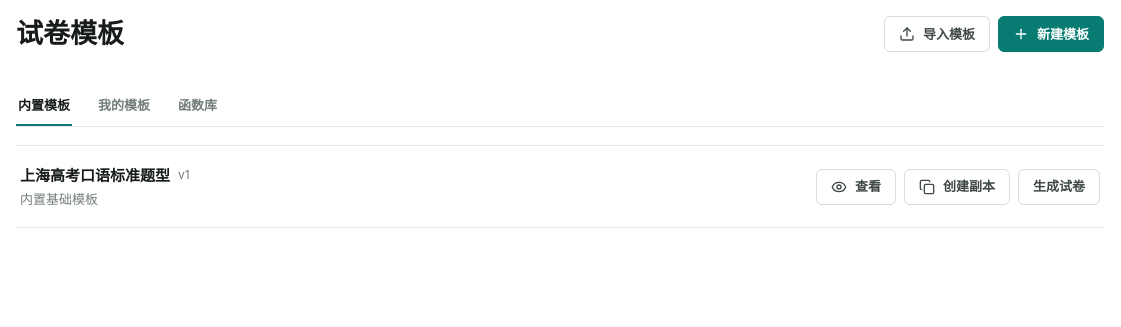
Template pages › imports a new template with its source ID and resets its revision
This screenshot has width=1121, height=327.
Click the button "导入模板".
click(937, 34)  # box top-left (884, 16), bottom-right (990, 52)
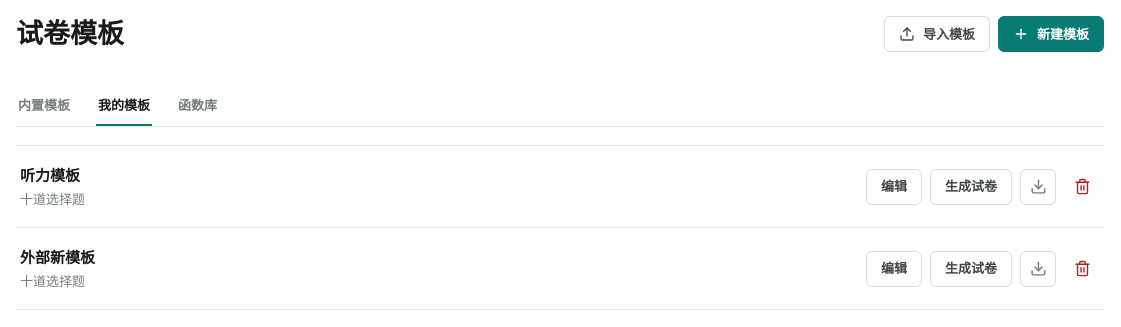
Result: the button "外部新模板" is shown at top-left (20, 246), bottom-right (95, 267)
